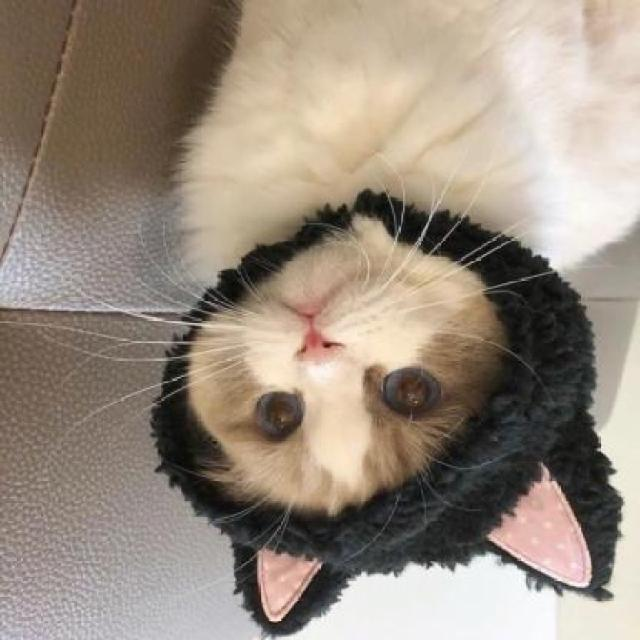cat: (192, 0, 640, 509)
